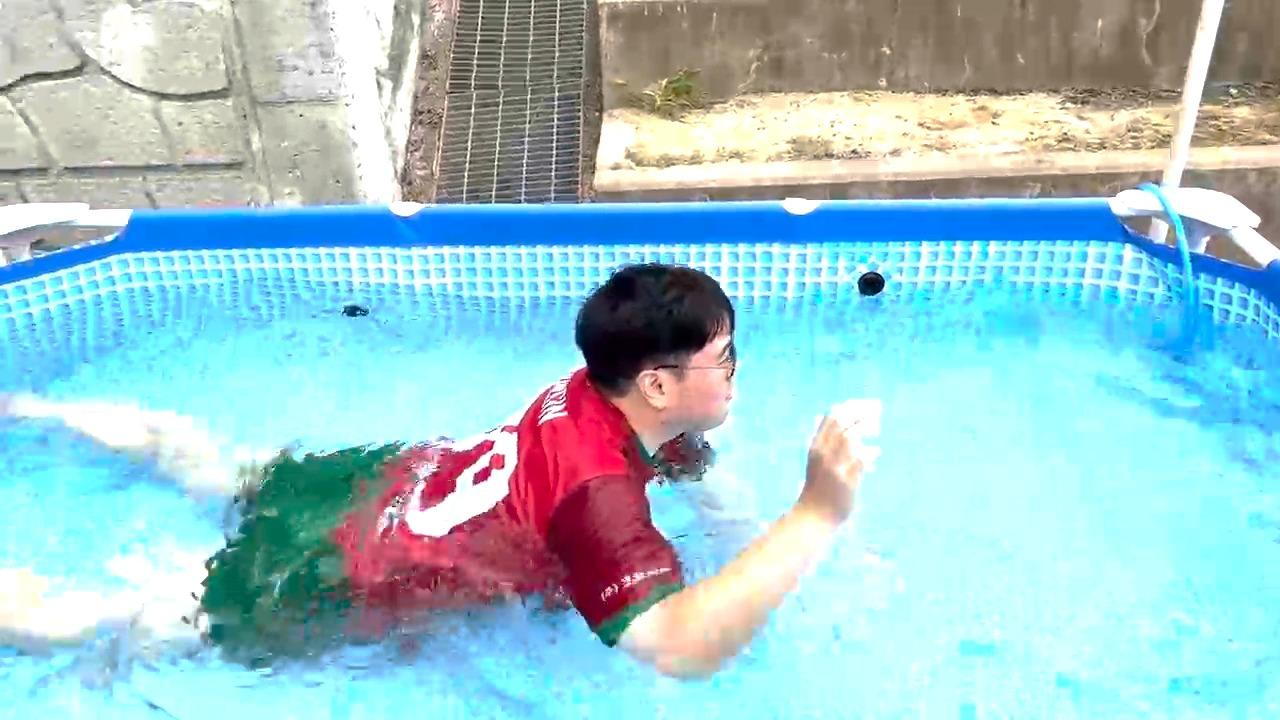Swimming: (0, 237, 967, 694)
